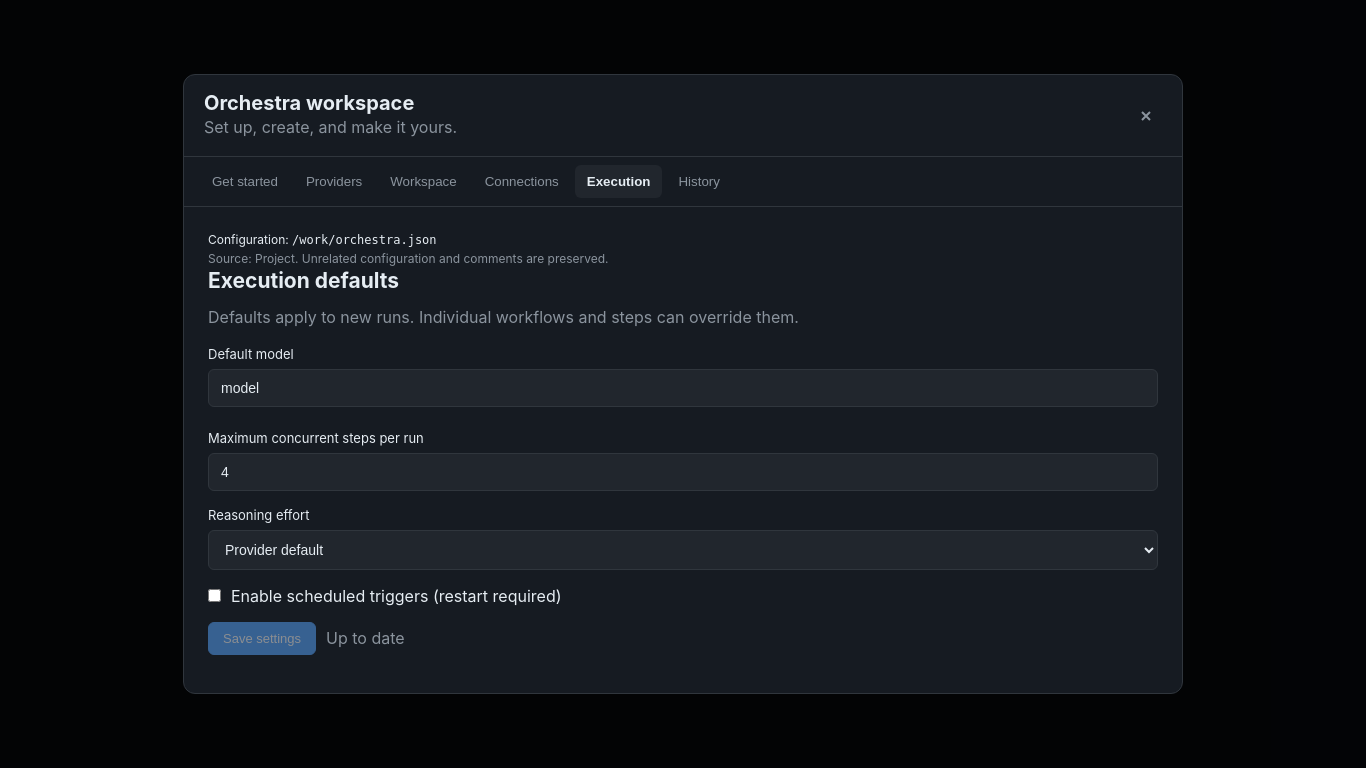
workspace onboarding › shows conflicts without silently discarding the edit
Replace the text in the field labelled "Default model" with "new-model": (683, 388) [208,369,1158,407]
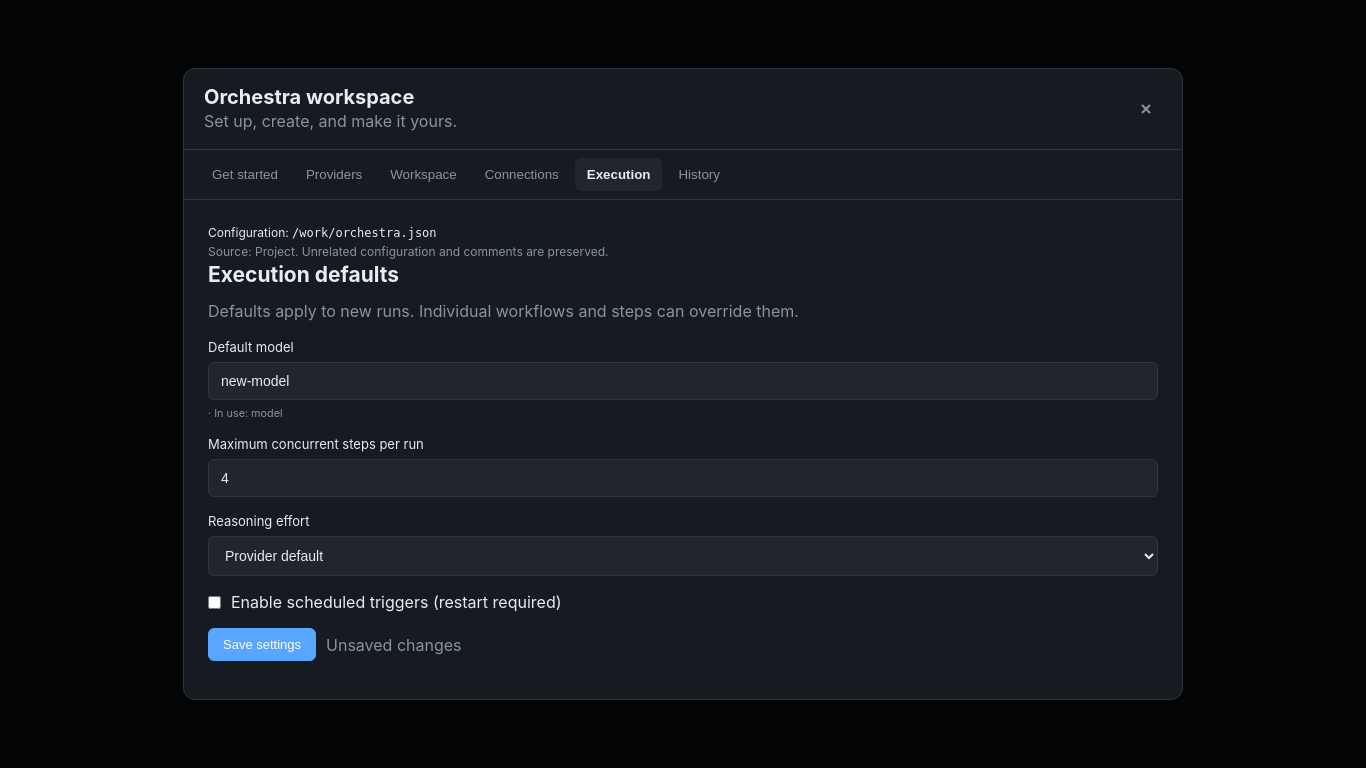
Click the button "Save settings": (262, 645) [208,628,316,661]
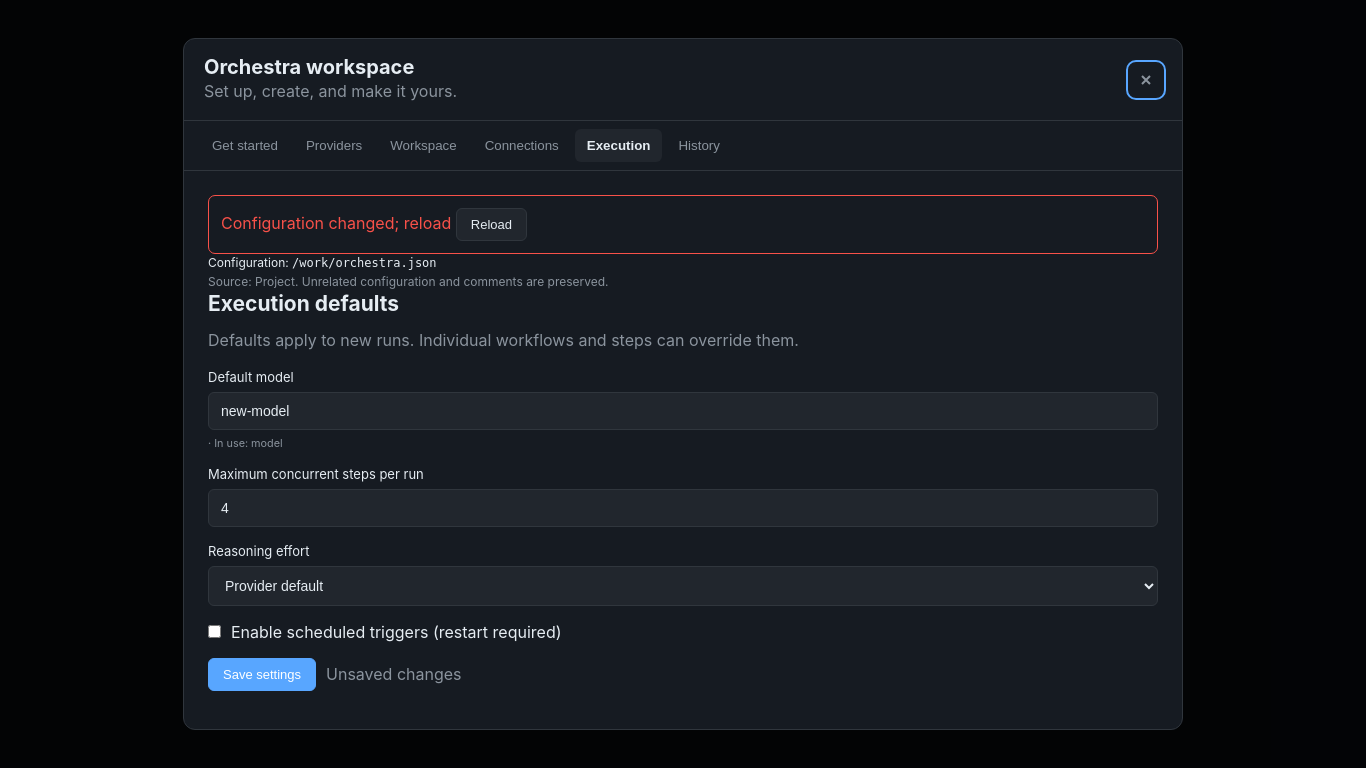
Result: the message shows "Configuration changed" at [221,213,451,233]
